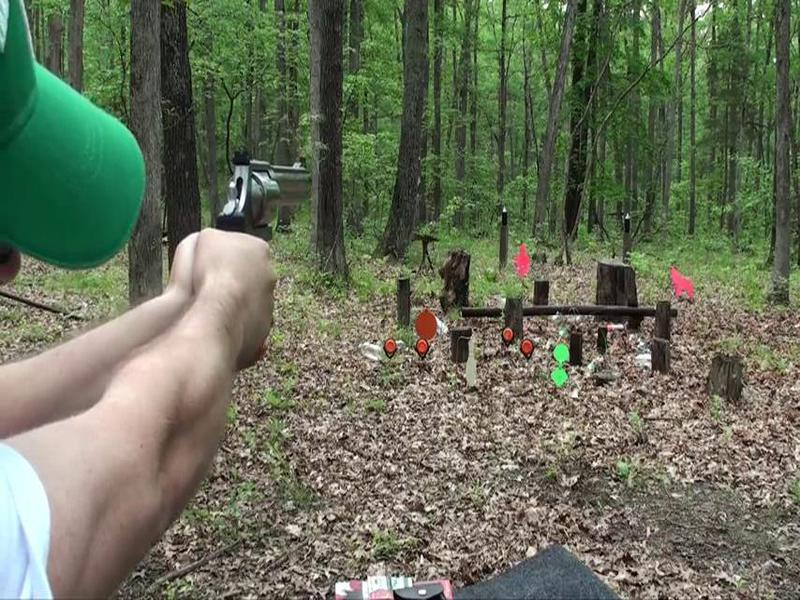Revolver: (196, 135, 337, 316)
